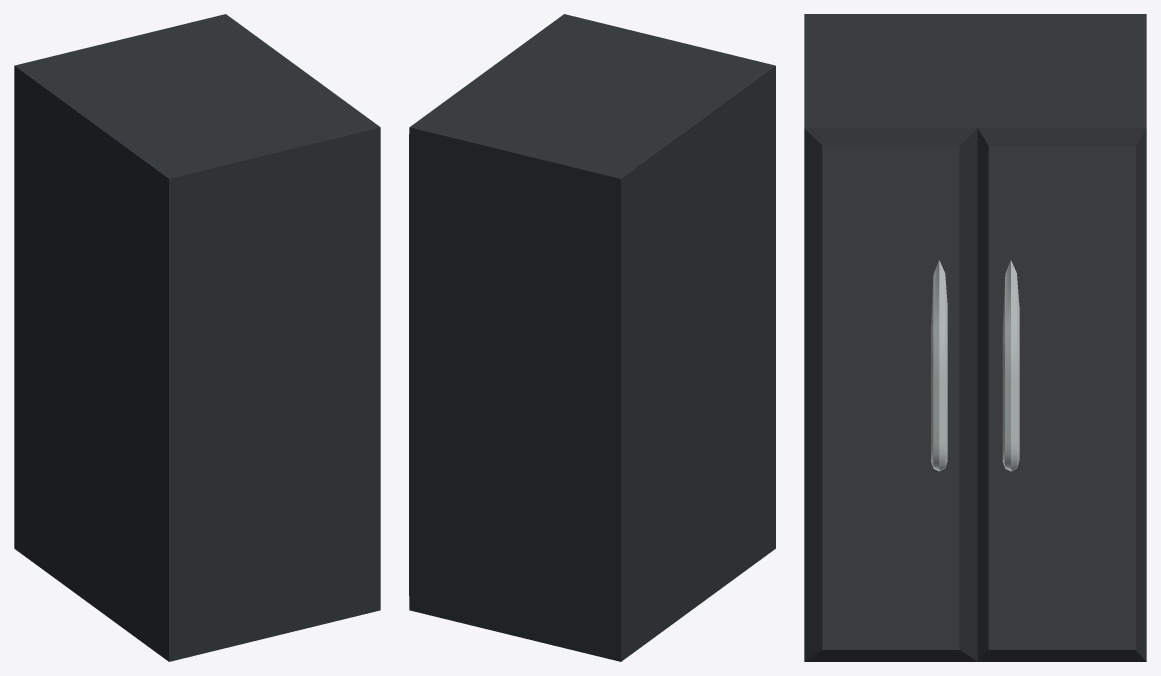
Rendered from fridge.fbx.
3 renders of one model, left to right at view 1: azimuth 30°, elevation 25°; view 2: azimuth 150°, elevation 25°; view 3: azimuth 270°, elevation 25°, orthographic. The views are drawn at different scales.
Visible parts, largest first — view 1: fridge; view 2: fridge; view 3: fridge.
Part boxes in pixels (x1,y1,x2,y2): fridge: (14,14,380,661); fridge: (409,14,775,661); fridge: (804,14,1146,661).
Bounding box in the file's own units: 2.38 × 4.83 × 2.81.
Materials: 1 (1 with a texture image).
